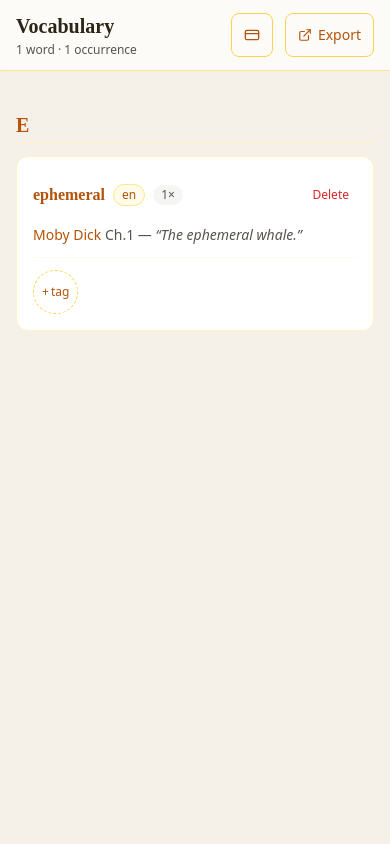
Test: DefinitionSheet — no-definition fallback link (closes #2477) › shows a Wiktionary link when the API returns empty definitions array
Click the button "ephemeral" at (69, 195), box left=33, top=173, right=105, bottom=217
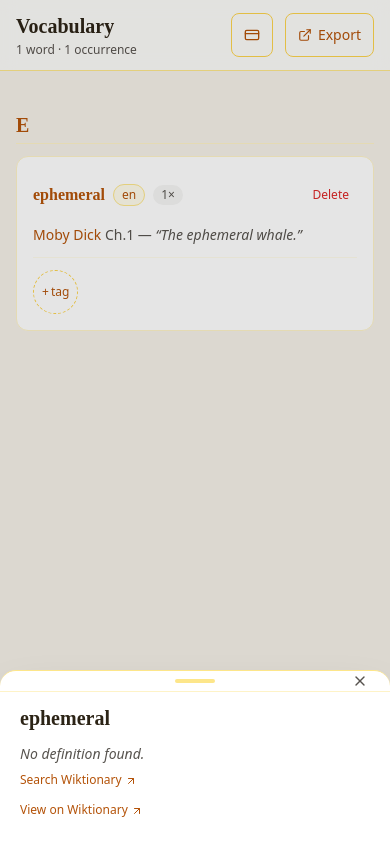
Expected: the text "No definition found." is shown, left=20, top=744, right=144, bottom=763
Expected: the link "Search Wiktionary" is shown, left=20, top=772, right=137, bottom=788
